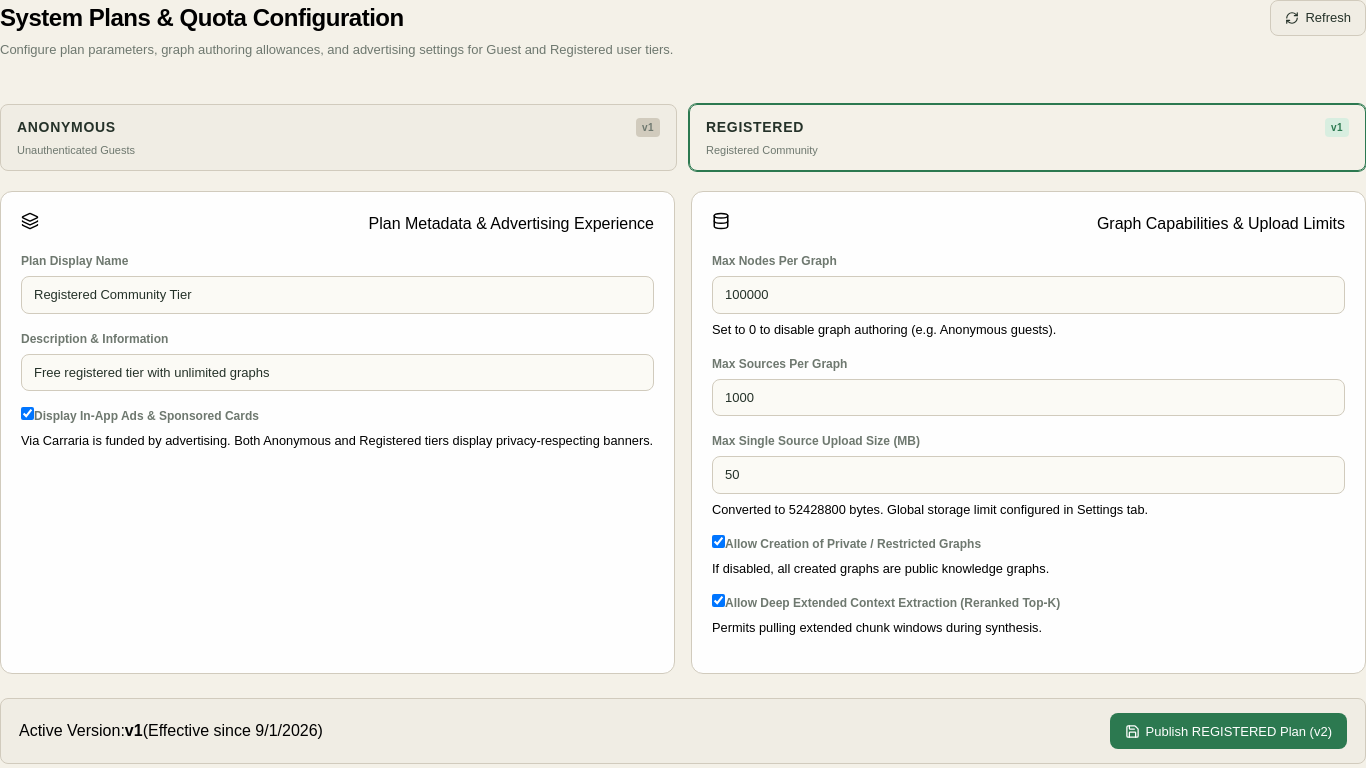
AdminPlansTab › updates plan configuration successfully when form is submitted
Step 1. Replace the text in the number field labelled "Max Nodes Per Graph" with "80000" → coordinates (1028, 295), box [712,276,1345,314]
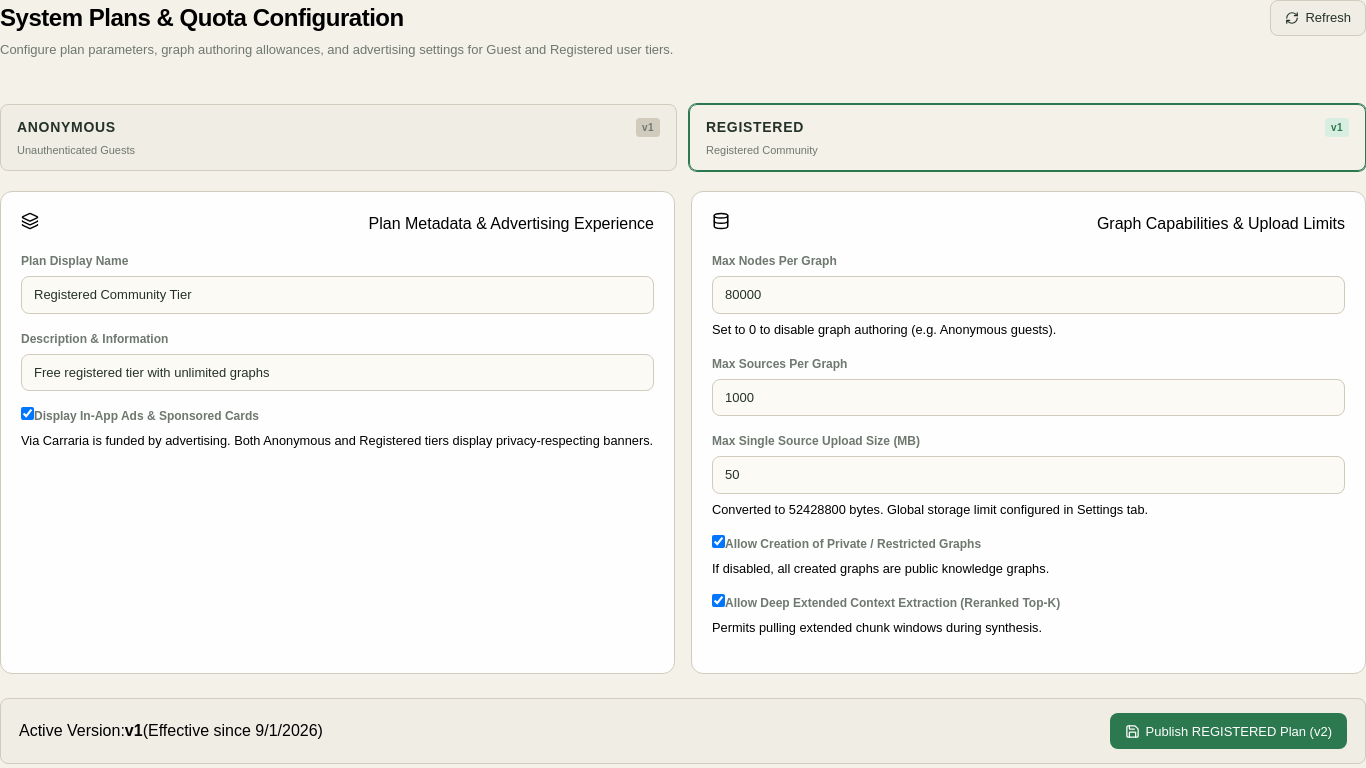
Step 2. Replace the text in the number field labelled "Max Single Source Upload Size (MB)" with "75" → coordinates (1028, 475), box [712,456,1345,494]
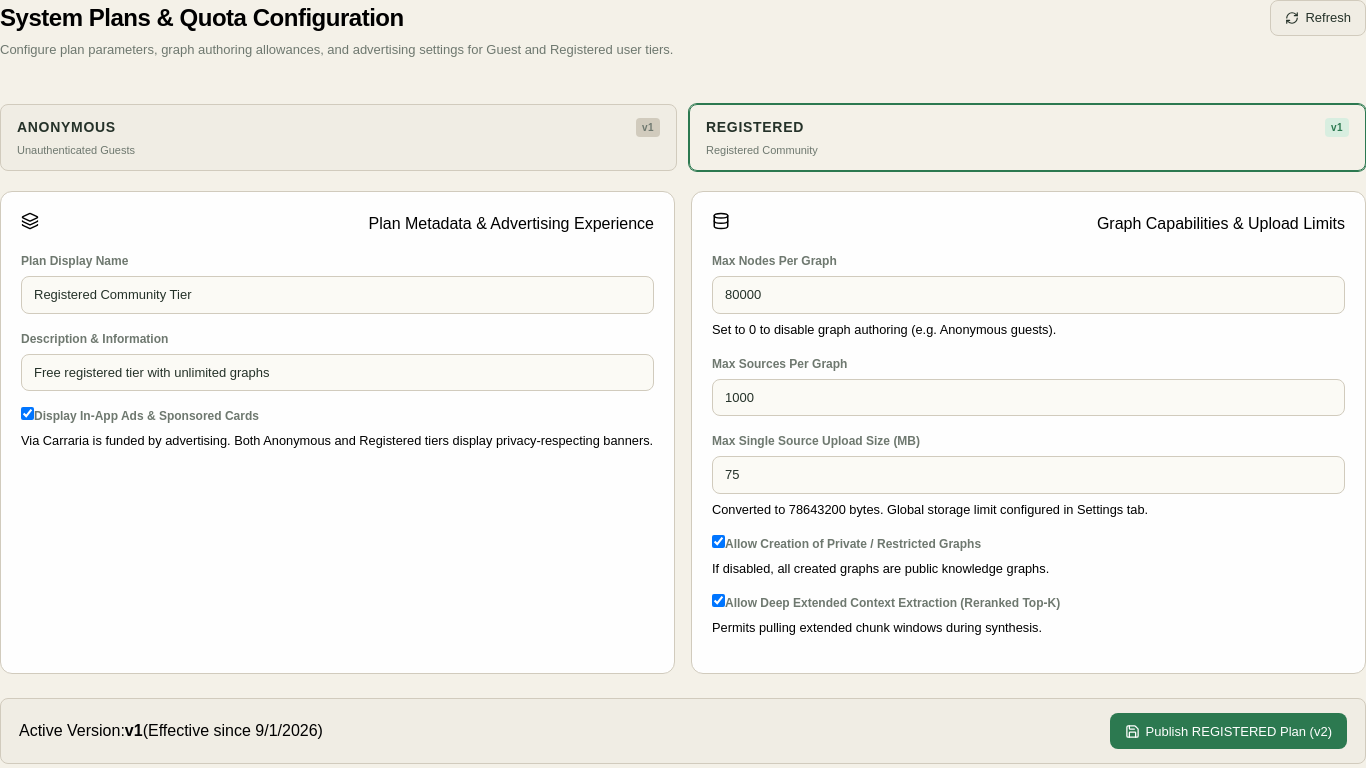
Step 3. Click the button "Publish REGISTERED Plan (v2)" → coordinates (1228, 731), box [1110,713,1347,749]
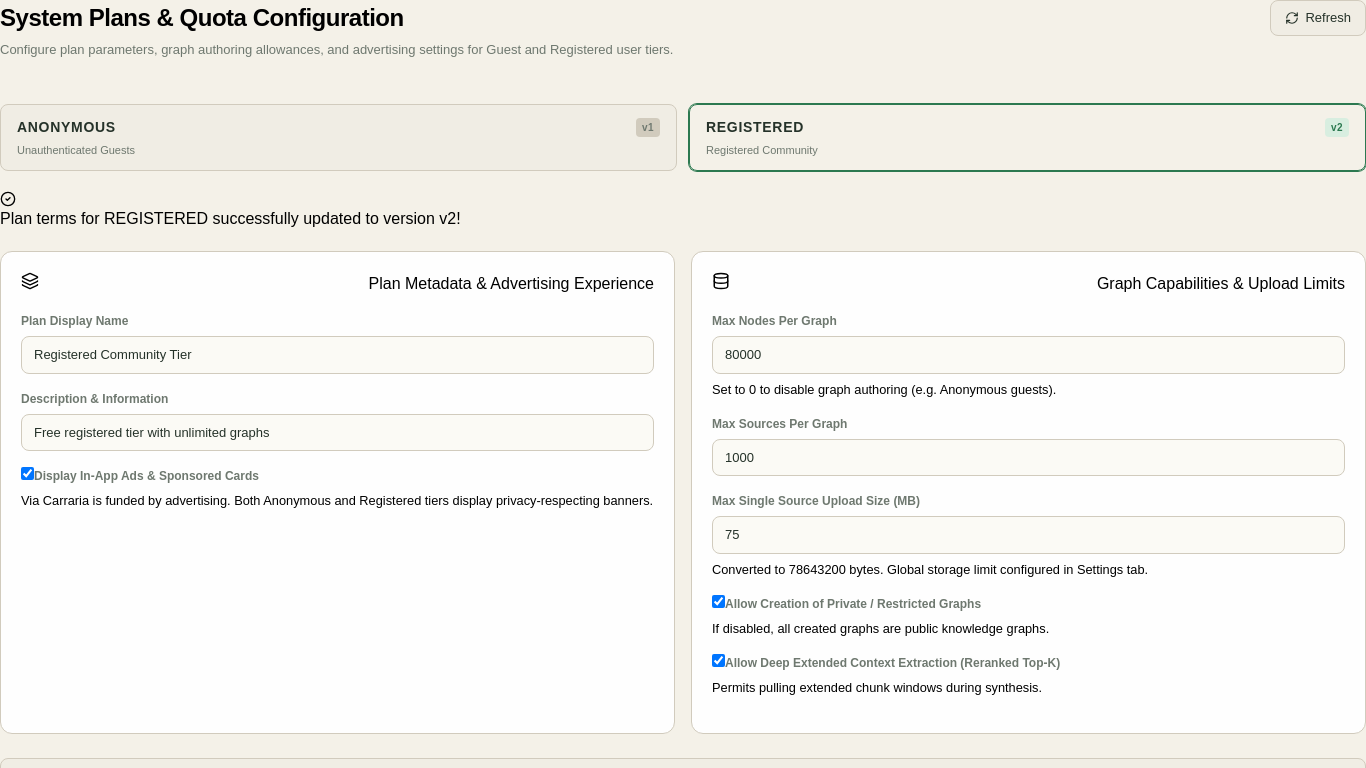
Check: the text "Plan terms for REGISTERED successfully updated to version v2!" is shown, box [0,210,461,227]
